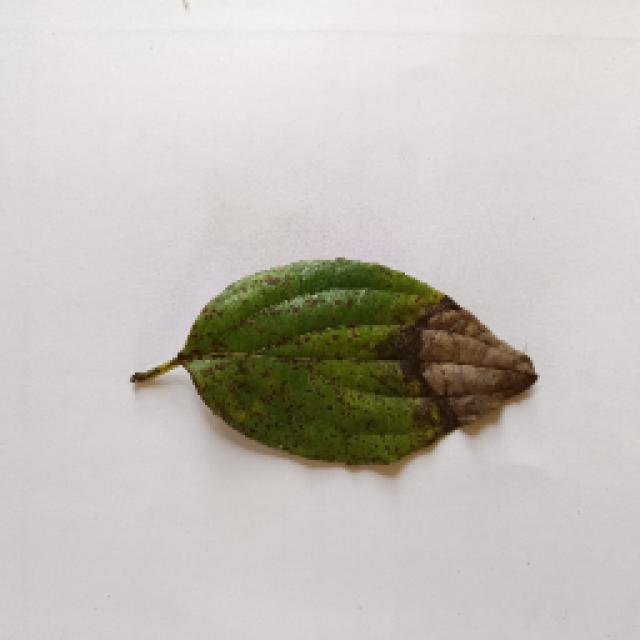footrot: (130, 250, 538, 460)
